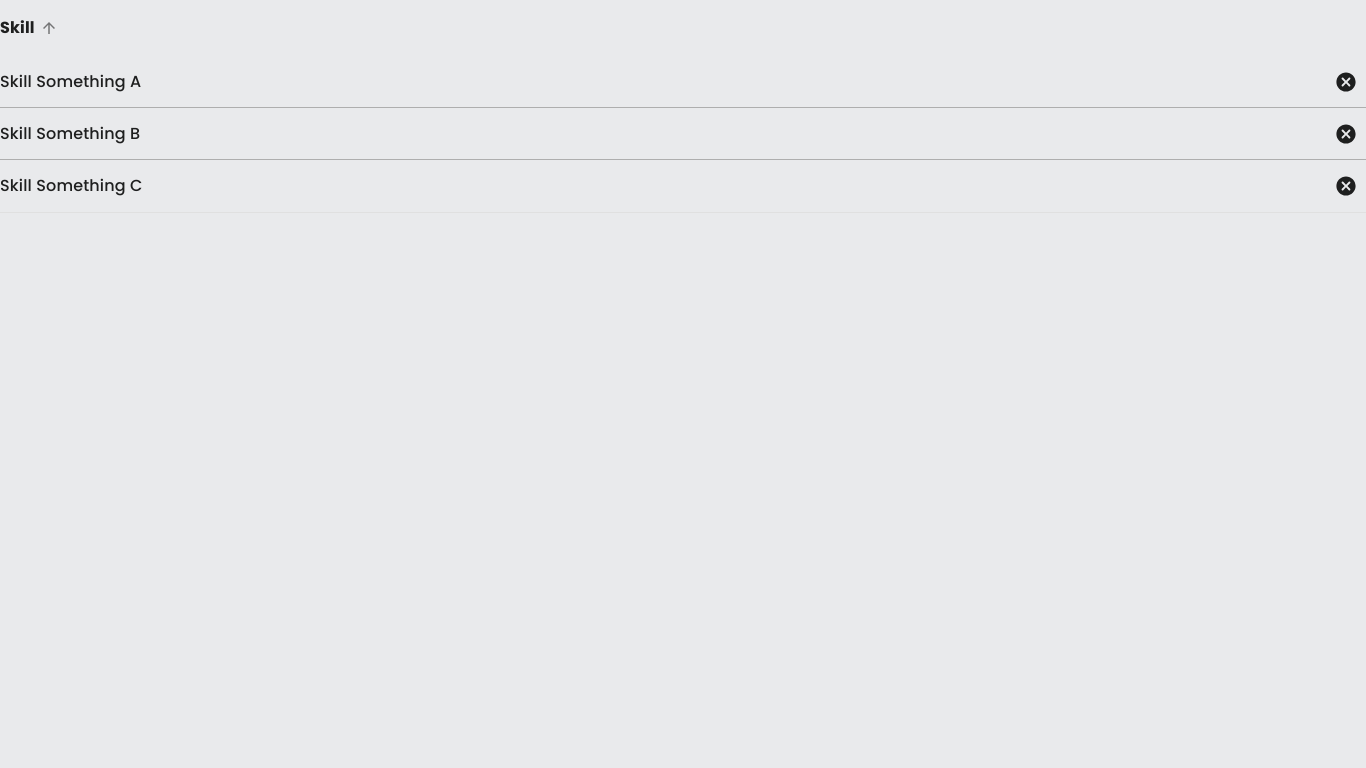
Scenario: SkillsDevelop › on deleting › renders confirm modal
This screenshot has width=1366, height=768.
Check: the text "Skill Something A" is shown, box [0, 70, 141, 94]
Step 1. Click the button with test id "delete-button-test1" → coordinates (1346, 82), box [1334, 70, 1358, 94]
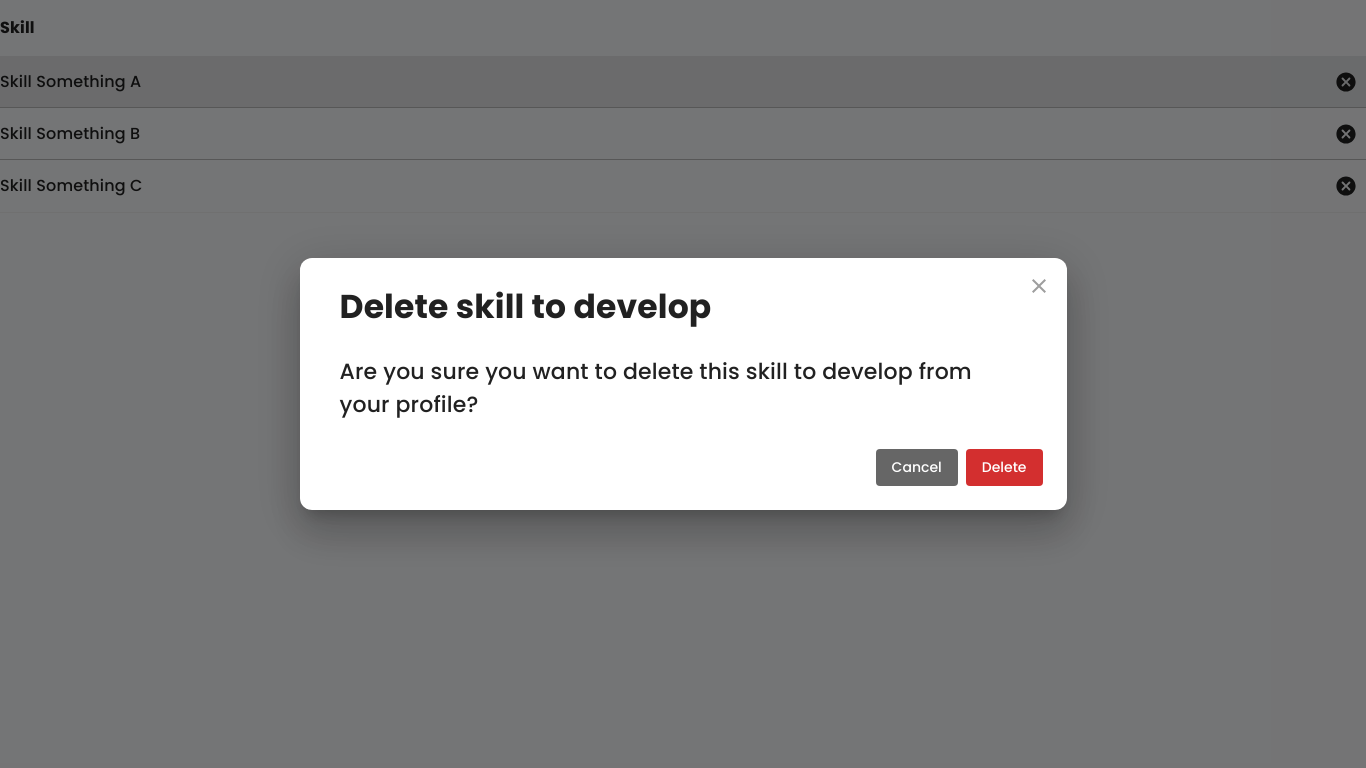
Check: the element with test id "datagrid-delete-modal" is shown
